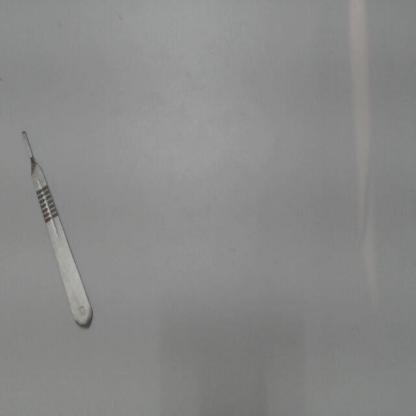No.3 BP Handle: (11, 117, 97, 337)
